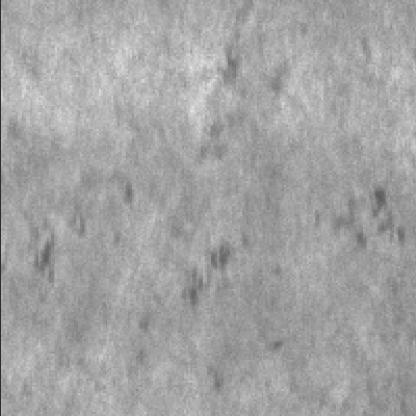rolled-in_scale: (191, 42, 285, 158), (300, 182, 404, 250), (173, 233, 237, 308)
